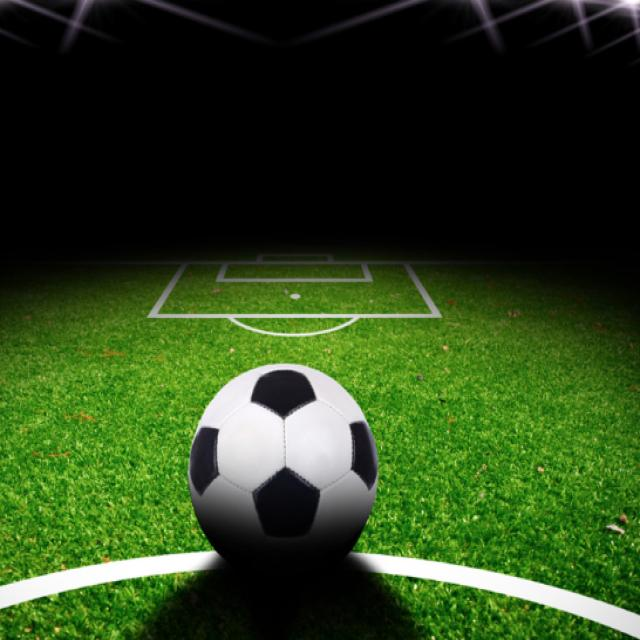football: (174, 331, 418, 592)
